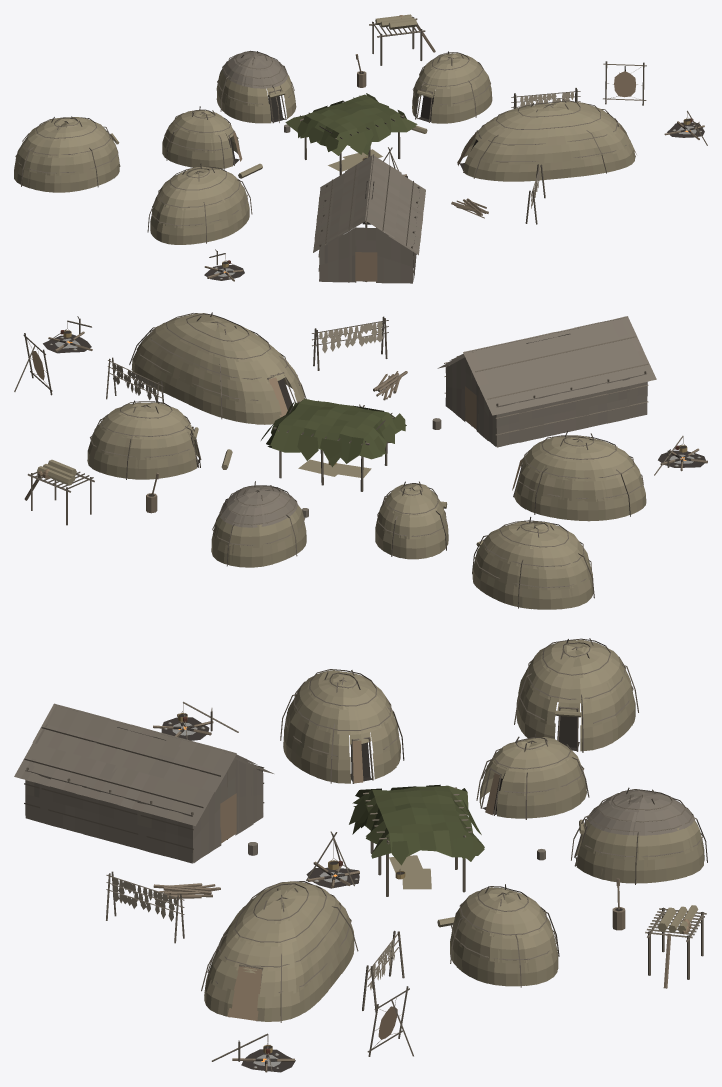
The model's file is potawatomi_camp_1812_south_west__camp_1812.glb.
3 views of the same model, one above another, from view 1: azimuth 30°, elevation 25°; view 2: azimuth 150°, elevation 25°; view 3: azimuth 270°, elevation 25° (orthographic). The views are drawn at different scales.
Visible parts, largest first — view 1: potawatomi_camp_1812_south_west__camp_1812; view 2: potawatomi_camp_1812_south_west__camp_1812; view 3: potawatomi_camp_1812_south_west__camp_1812.
Part boxes in pixels (box(x1,y1,x2,y2)): potawatomi_camp_1812_south_west__camp_1812: box(14, 14, 707, 283); potawatomi_camp_1812_south_west__camp_1812: box(14, 312, 707, 609); potawatomi_camp_1812_south_west__camp_1812: box(14, 638, 707, 1072).
Bounding box in the file's own units: 31.83 × 3.45 × 24.14.
